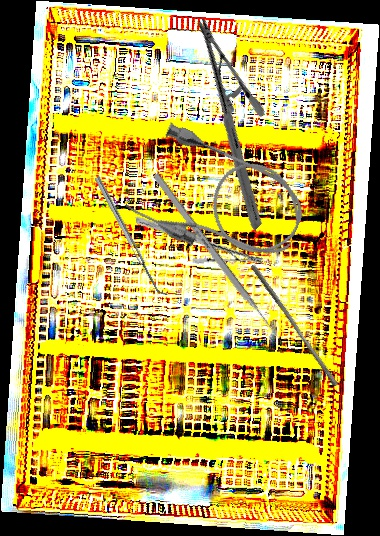Cannula: (120, 118, 317, 282)
Needle Holder: (123, 17, 336, 231), (135, 194, 264, 287)
Pusher: (151, 172, 286, 346), (245, 263, 343, 388)
Spatula Surgical: (94, 173, 169, 300)
